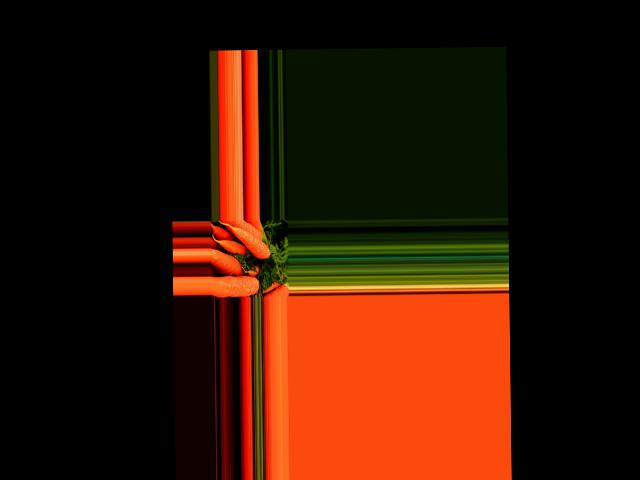carrot: (211, 272, 261, 297)
